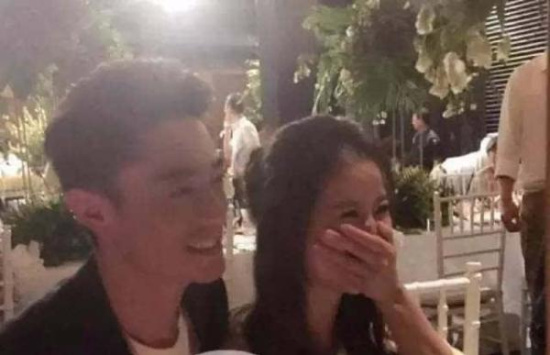face: (110, 129, 242, 282), (301, 167, 394, 294)
